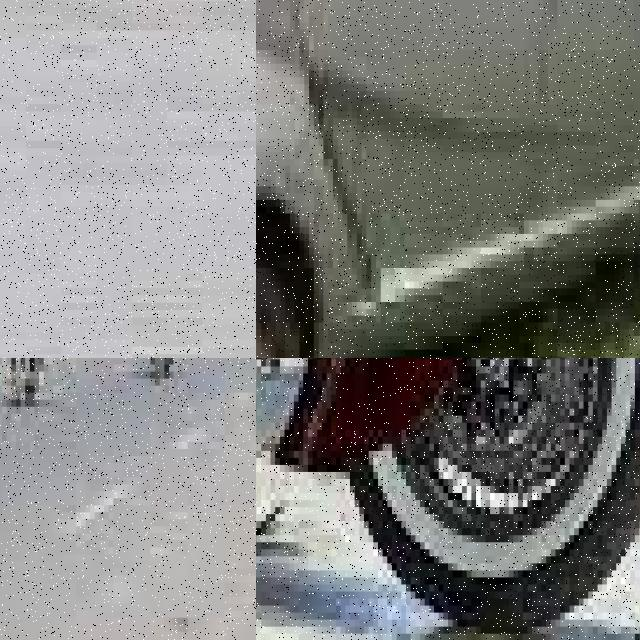bike: (256, 358, 640, 640), (2, 358, 57, 399), (136, 358, 178, 378)
car: (256, 0, 640, 358)
